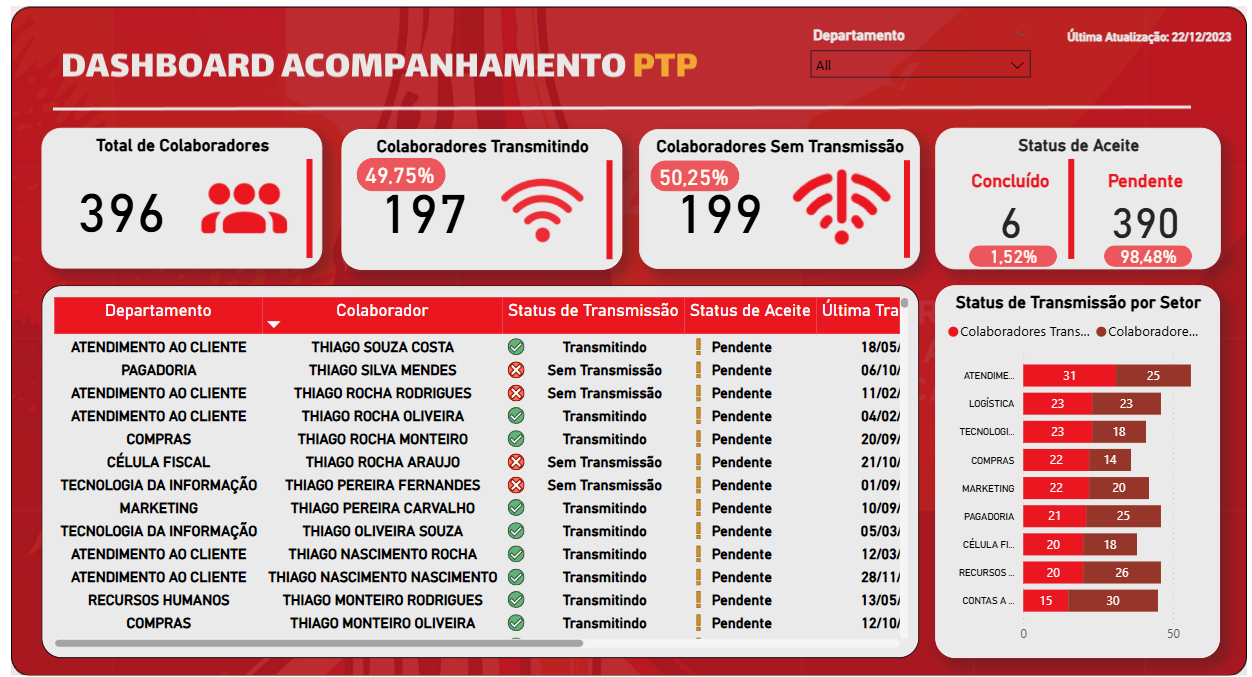

The dashboard page shown, as its layout file describes it:
{"tool":"powerbi","page":{"name":"Dashboard PTP","canvas":[1280,720],"ordinal":0},"visuals":[{"type":"cardVisual","title":"Colaboradores Transmitindo","fields":{"Data":["Medidas.Colaboradores Transmitindo"]},"box":[352.2,144.7,281,141.1],"z":0,"group":"g2"},{"type":"cardVisual","title":"Colaboradores Sem Transmissão","fields":{"Data":["Medidas.Colaboradores Sem Transmissão"]},"box":[650.1,144.7,281,139.9],"z":0,"group":"g1"},{"type":"tableEx","fields":{"Values":["Colaboradores PTP.department","Colaboradores PTP.alias","Colaboradores PTP.Situaçao","Colaboradores PTP.Status de Aceite","Colaboradores PTP.lastTransmission","Medidas.Contagem Dias1","Medidas.Soma Presencial1","Medidas.Soma Home Office1"]},"box":[53.1,301.5,878,372.7],"z":0},{"type":"cardVisual","title":"Total de Colaboradores","fields":{"Data":["Medidas.Total de Colaboradores"]},"box":[53.1,143.5,281,141.1],"z":1000},{"type":"shape","box":[366.7,173.6,89.2,33.8],"z":1000,"group":"g2"},{"type":"card","fields":{"Values":["Medidas.%Transmitindo"]},"box":[359.6,175.9,102,29.3],"z":2000,"group":"g2"},{"type":"shape","box":[661,176.1,89.2,31.4],"z":2000,"group":"g1"},{"type":"barChart","title":"Status de Transmissão por Setor","fields":{"Category":["Colaboradores PTP.department"],"Y":["Medidas.Colaboradores Transmitindo","Medidas.Colaboradores Sem Transmissão"]},"box":[946.7,301.5,284.6,372.7],"z":2000},{"type":"slicer","fields":{"Values":["Colaboradores PTP.department"]},"box":[811.7,37.4,240,61.5],"z":3000},{"type":"card","fields":{"Values":["Medidas.%SemTransmissão"]},"box":[660.6,172.1,89.3,40.8],"z":3000,"group":"g1"},{"type":"textbox","box":[1040.8,37.4,206.2,33.8],"z":4000},{"type":"cardVisual","title":"Status de Aceite","fields":{"Data":["Medidas.Colaboradores Aceite Concluido","Medidas.Colaboradores Aceite Pendente"]},"box":[946.2,144.1,285.6,141.5],"z":5000,"group":"g3"},{"type":"shape","box":[979.3,261.7,88,21.7],"z":6000,"group":"g3"},{"type":"card","fields":{"Values":["Medidas.% Aceite Concluido"]},"box":[980.5,258.1,89.2,31.4],"z":7000,"group":"g3"},{"type":"group","id":"g1","title":"Grupo 1","box":[650.1,144.7,281,139.9],"z":8000},{"type":"group","id":"g2","title":"Grupo 2","box":[352.2,144.7,281,141.1],"z":9000},{"type":"shape","box":[1114.4,261.7,88,21.7],"z":10000,"group":"g3"},{"type":"card","fields":{"Values":["Medidas.% Aceite Pendente"]},"box":[1114.4,258.1,89.2,31.4],"z":11000,"group":"g3"},{"type":"group","id":"g3","title":"Grupo 3","box":[946.2,144.1,285.6,145.4],"z":11001}]}

Visuals, with their boxes on the page's 1280x720 design canvas (x1, y1, x2, y2). These are canvas units, not pixel positions in the 1252x677 screenshot, which may show the page scaled, cropped or inside an application window:
"Colaboradores Transmitindo" cardVisual: region(352, 145, 633, 286)
"Colaboradores Sem Transmissão" cardVisual: region(650, 145, 931, 285)
tableEx - Colaboradores PTP.department x Colaboradores PTP.alias: region(53, 302, 931, 674)
"Total de Colaboradores" cardVisual: region(53, 144, 334, 285)
shape: region(367, 174, 456, 207)
card - Medidas.%Transmitindo: region(360, 176, 462, 205)
shape: region(661, 176, 750, 208)
"Status de Transmissão por Setor" barChart: region(947, 302, 1231, 674)
slicer - Colaboradores PTP.department: region(812, 37, 1052, 99)
card - Medidas.%SemTransmissão: region(661, 172, 750, 213)
textbox: region(1041, 37, 1247, 71)
"Status de Aceite" cardVisual: region(946, 144, 1232, 286)
shape: region(979, 262, 1067, 283)
card - Medidas.% Aceite Concluido: region(980, 258, 1070, 290)
"Grupo 1" group: region(650, 145, 931, 285)
"Grupo 2" group: region(352, 145, 633, 286)
shape: region(1114, 262, 1202, 283)
card - Medidas.% Aceite Pendente: region(1114, 258, 1204, 290)
"Grupo 3" group: region(946, 144, 1232, 290)
